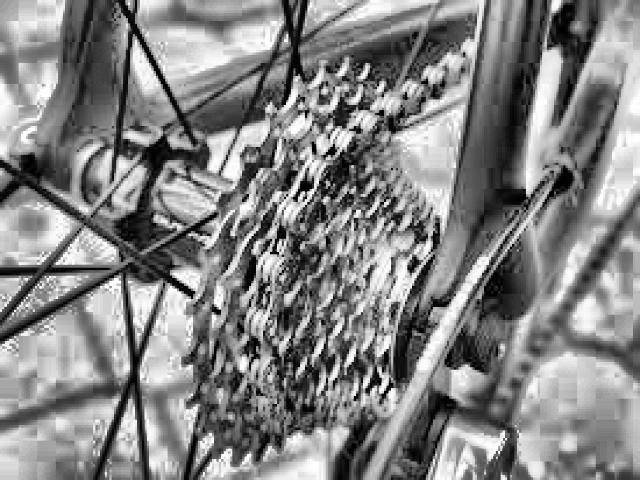cassette: (181, 49, 456, 470)
